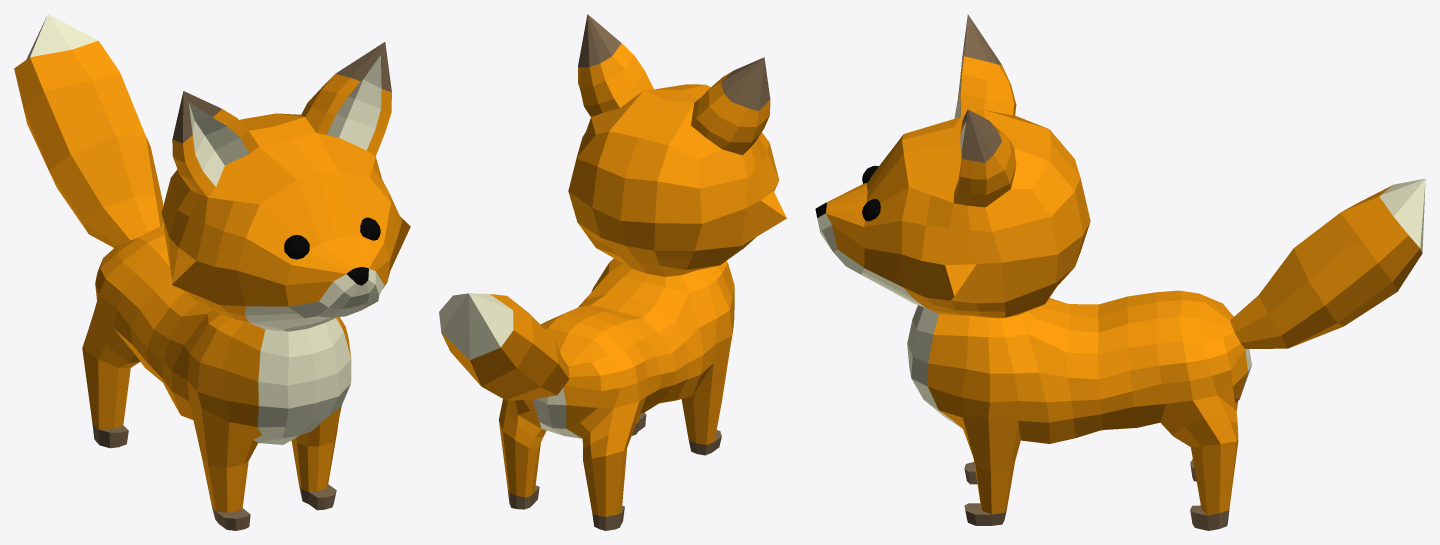
File: fox 1.fbx
3 views of the same model, side by side, from view 1: azimuth 30°, elevation 25°; view 2: azimuth 150°, elevation 25°; view 3: azimuth 270°, elevation 25° (orthographic). The views are drawn at different scales.
Parts seen in each view (by area): view 1: Cube, Sphere.001; view 2: Cube; view 3: Cube.
Boxes of the visible parts, x1,y1,x2,y2 form: Cube: (14,14,410,530); Sphere.001: (284,235,309,259); Cube: (439,14,786,530); Cube: (815,14,1425,530).
Size of the model in its own units: 299 by 545 by 683.
